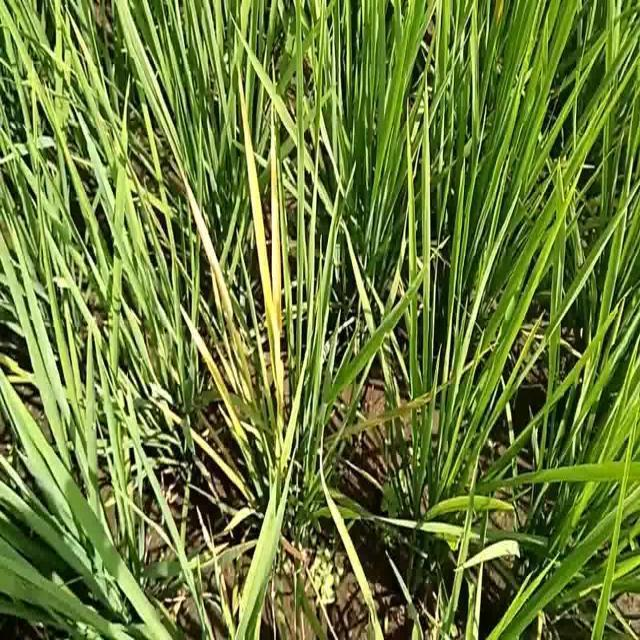Rice Tungro: (174, 152, 243, 364), (235, 60, 273, 320), (176, 294, 240, 433), (265, 55, 289, 326)
